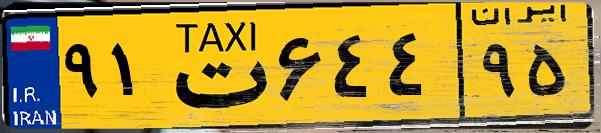1: (110, 28, 158, 98)
4: (385, 28, 445, 110), (330, 28, 385, 110)
5: (525, 38, 570, 115)
6: (270, 28, 330, 110)
9: (57, 26, 110, 100), (475, 38, 525, 113)
ت: (158, 12, 270, 120)
